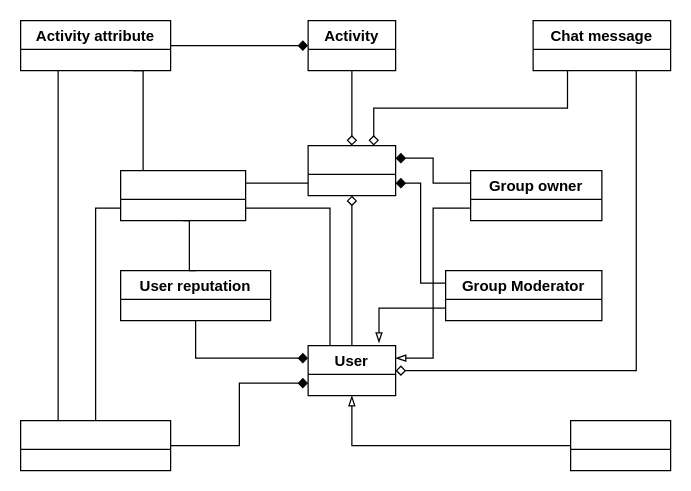
This 691x491 diagram has some shape labels left out. The shapes that lost their labels are listed below. From the top down, each one's centre as x and y in pixels, then its label:
At pixel 351 170: "Group".
At pixel 182 195: "Algorithm".
At pixel 95 445: "User attribute".
At pixel 620 445: "Friend".
